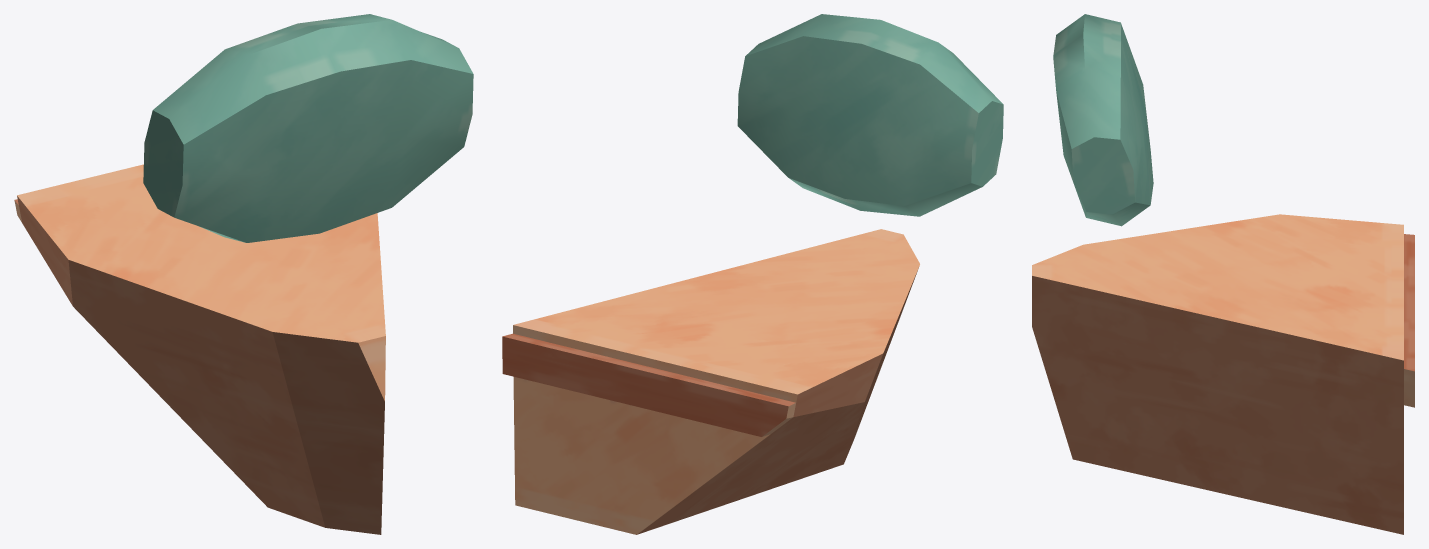
The model's file is divan_s05.fbx.
The picture shows the model from 3 angles, left to right: view 1: azimuth 30°, elevation 25°; view 2: azimuth 150°, elevation 25°; view 3: azimuth 270°, elevation 25°; orthographic projection. The views are drawn at different scales.
Parts seen in each view (by area): view 1: divan_s05; view 2: divan_s05; view 3: divan_s05.
Part boxes in pixels (box(x1,y1,x2,y2)): divan_s05: box(14, 14, 473, 534); divan_s05: box(502, 14, 1003, 534); divan_s05: box(1032, 14, 1414, 534).
Size of the model in its own units: 2.37 by 2.88 by 2.47.
